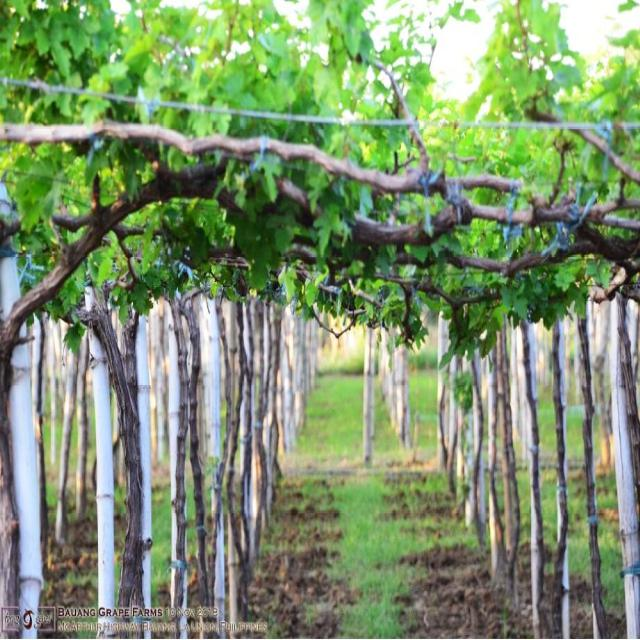row: (231, 372, 555, 640)
